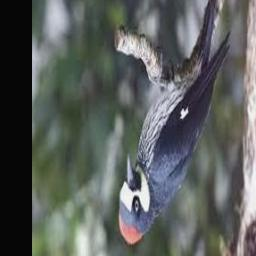Woodpecker: (120, 0, 231, 248)
